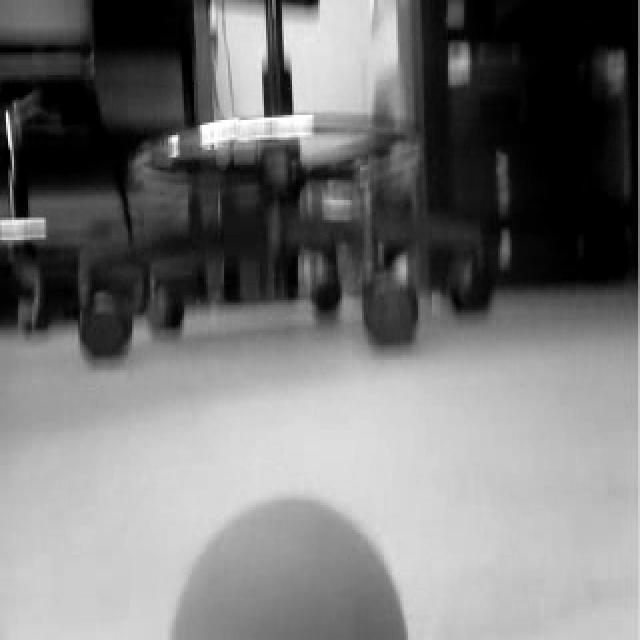ping-pong-ball: (166, 482, 414, 640)
